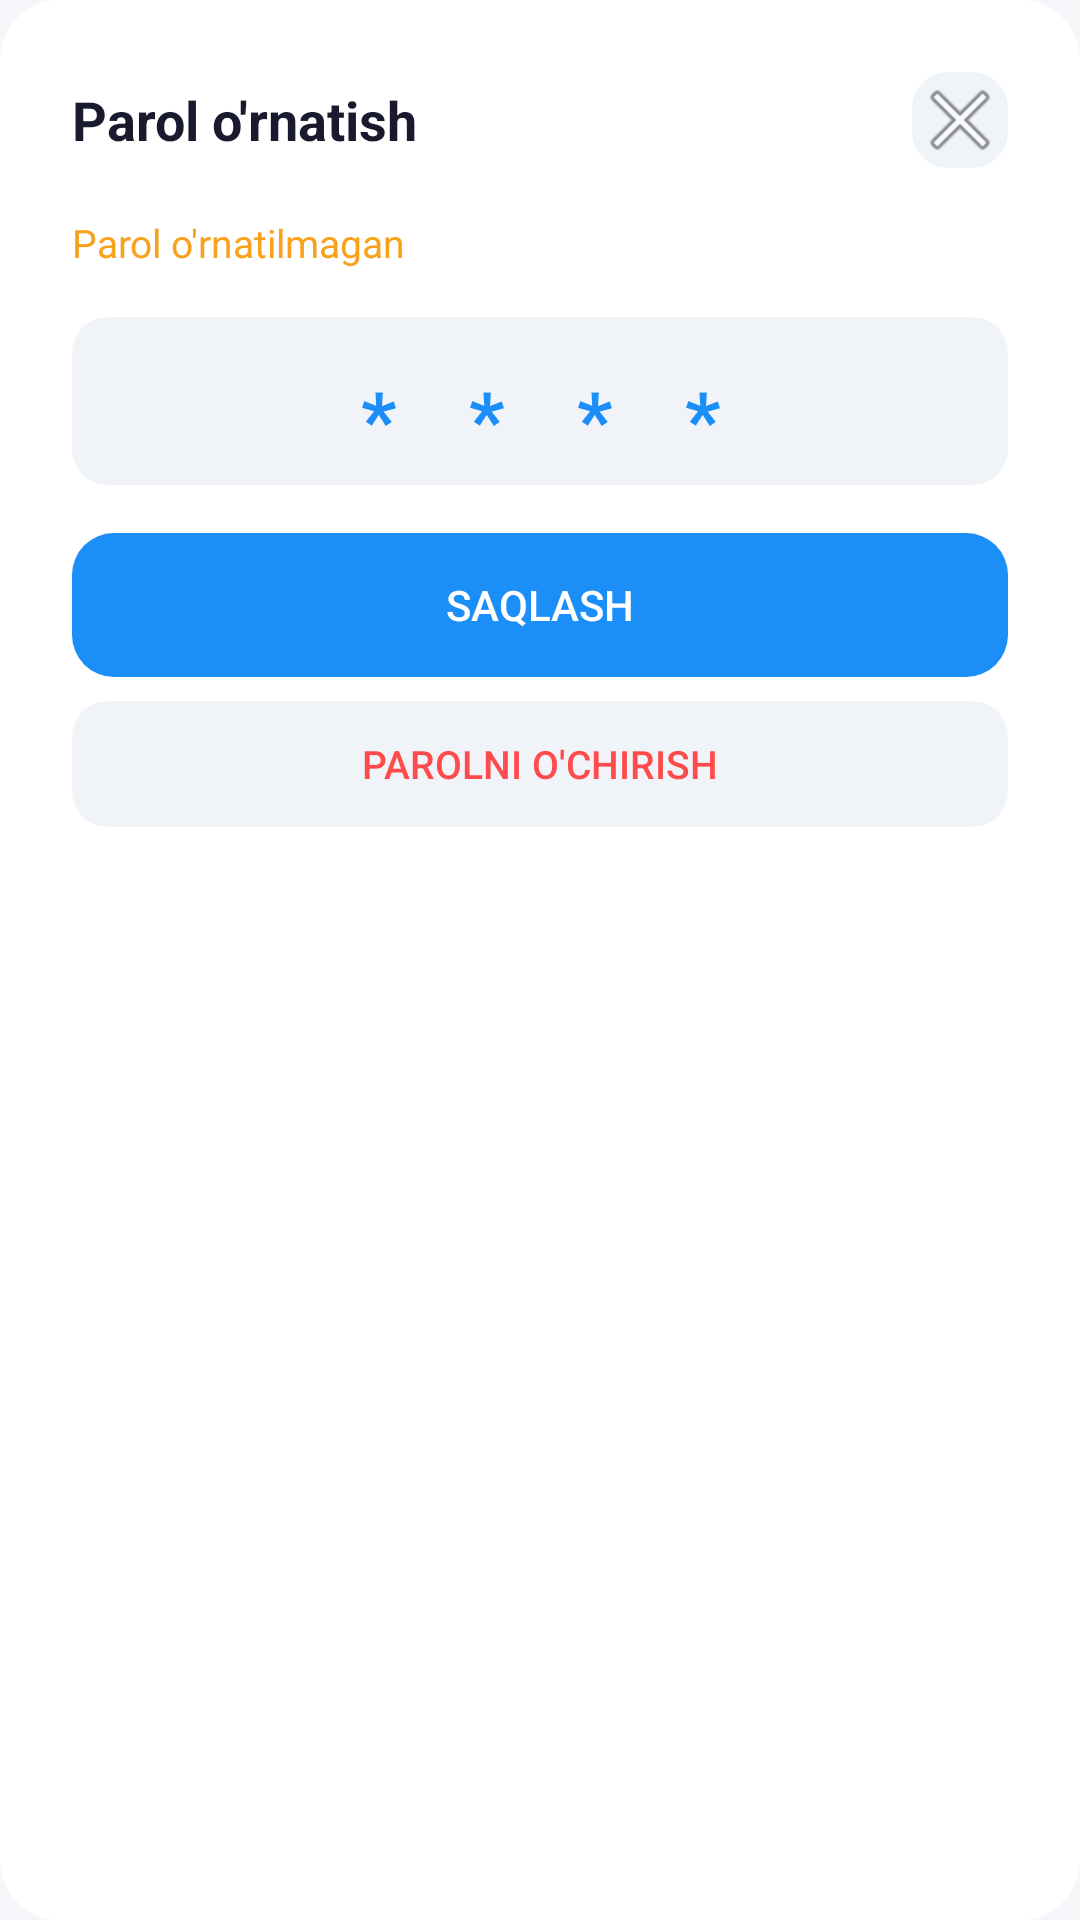

Screen size 1080 x 1920. Icon name, then its box in pixels as (x1, y1, x2, y2):
close clear cancel: (912, 72, 1008, 168)
